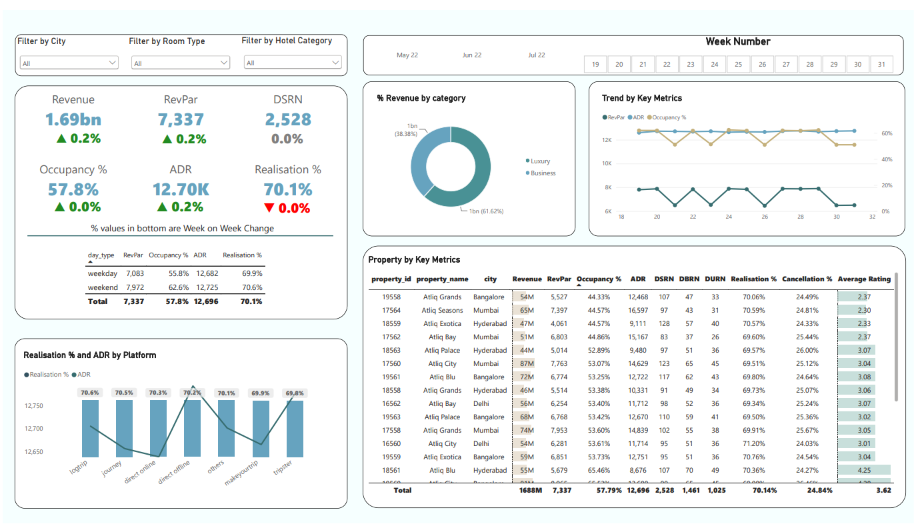

What the dashboard file says about the page in this screenshot:
{"tool":"powerbi","page":{"name":"Page 1","canvas":[1920,1080],"ordinal":1},"visuals":[{"type":"shape","box":[758.6,52.9,1138.6,84.3],"z":0},{"type":"shape","box":[758,496,1144,552],"z":1000},{"type":"shape","box":[24.9,691.4,700.7,358.1],"z":2000},{"type":"shape","box":[25.7,51.4,700,87.1],"z":3000},{"type":"shape","box":[1234,150,666,326],"z":4000},{"type":"shape","box":[758,150,448,326],"z":5000},{"type":"tableEx","title":"Property by Key Metrics","fields":{"Values":["dim_hotels.property_id","dim_hotels.property_name","dim_hotels.city","key_measures.Revenue","key_measures.RevPar","key_measures.Occupancy %","key_measures.ADR","key_measures.DSRN","key_measures.DBRN","key_measures.DURN","key_measures.Realisation %","key_measures.Cancellation %"]},"box":[754,500,1148,540],"z":6000},{"type":"slicer","title":"Filter by City","fields":{"Values":["dim_hotels.city"]},"box":[31.4,54.3,217.1,81.4],"z":7000},{"type":"slicer","title":"Filter by Room Type","fields":{"Values":["dim_rooms.room_class"]},"box":[265.7,54.3,218.6,81.4],"z":8000},{"type":"slicer","title":"Week Number","fields":{"Values":["dim_date.wn"]},"box":[1202.9,52.9,691.4,81.4],"z":9000},{"type":"slicer","fields":{"Values":["dim_date.mmm yy"]},"box":[764.3,57.1,447.1,74.3],"z":10000},{"type":"donutChart","title":"% Revenue by category","fields":{"Category":["dim_hotels.category"],"Y":["key_measures.Revenue"]},"box":[772,160,418,304],"z":11000},{"type":"lineChart","title":"Trend by Key Metrics","fields":{"Category":["dim_date.wn"],"Y":["key_measures.RevPar","key_measures.ADR"],"Y2":["key_measures.Occupancy %"]},"box":[1246,160,644,304],"z":12000},{"type":"shape","box":[24.9,158.8,700.7,492],"z":13000},{"type":"cardVisual","fields":{"Data":["key_measures.wow_revenue_change"]},"box":[78,234.6,164.7,66.6],"z":13000,"group":"g1"},{"type":"cardVisual","fields":{"Data":["key_measures.wow_RevPar_change"]},"box":[303.7,234.5,157.1,67.1],"z":14000,"group":"g1"},{"type":"tableEx","fields":{"Values":["dim_date.day_type","key_measures.RevPar","key_measures.Occupancy %","key_measures.ADR","key_measures.Realisation %"]},"box":[158,488,470,162],"z":14000},{"type":"cardVisual","fields":{"Data":["key_measures.wow_occupancy_change"]},"box":[72.9,384.7,170,52.5],"z":15000,"group":"g2"},{"type":"lineStackedColumnComboChart","title":"Realisation % and ADR by Platform","fields":{"Category":["fact_bookings.booking_platform"],"Y":["key_measures.Realisation %"],"Y2":["key_measures.ADR"]},"box":[28,700.7,694.5,339.4],"z":15000},{"type":"cardVisual","fields":{"Data":["key_measures.Revenue","key_measures.RevPar","key_measures.DSRN","key_measures.Occupancy %","key_measures.ADR","key_measures.Realisation %"]},"box":[36,138,680,294],"z":16000},{"type":"cardVisual","fields":{"Data":["key_measures.wow_DSRN_change"]},"box":[513.7,238,171.4,58.6],"z":16000,"group":"g1"},{"type":"slicer","title":"Filter by Hotel Category","fields":{"Values":["dim_hotels.category"]},"box":[502.9,52.9,215.7,81.4],"z":17000},{"type":"cardVisual","fields":{"Data":["key_measures.wow_ADR_change"]},"box":[295.1,385.3,157,52.3],"z":17000,"group":"g2"},{"type":"group","id":"g1","title":"Group 1","box":[78,234.5,607.2,67.1],"z":18000},{"type":"cardVisual","fields":{"Data":["key_measures.wow_Realisation_change"]},"box":[513.5,388.1,170.8,52.3],"z":18000,"group":"g2"},{"type":"group","id":"g2","title":"Group 2","box":[72.9,384.7,611.4,55.8],"z":19000},{"type":"shape","box":[52,466,644,18],"z":20000},{"type":"textbox","box":[186,446,416,54],"z":21000}]}

Visuals, with their boxes in screenshot pixels (x1, y1, x2, y2), scaled from the page's 1920x1080 canvas onto the 916x526 screenshot:
shape: BBox(362, 26, 905, 67)
shape: BBox(362, 242, 907, 510)
shape: BBox(12, 337, 346, 511)
shape: BBox(12, 25, 346, 67)
shape: BBox(589, 73, 906, 232)
shape: BBox(362, 73, 575, 232)
"Property by Key Metrics" tableEx: BBox(360, 244, 907, 507)
"Filter by City" slicer: BBox(15, 26, 119, 66)
"Filter by Room Type" slicer: BBox(127, 26, 231, 66)
"Week Number" slicer: BBox(574, 26, 904, 65)
slicer - dim_date.mmm yy: BBox(365, 28, 578, 64)
"% Revenue by category" donutChart: BBox(368, 78, 568, 226)
"Trend by Key Metrics" lineChart: BBox(594, 78, 902, 226)
shape: BBox(12, 77, 346, 317)
cardVisual - key_measures.wow_revenue_change: BBox(37, 114, 116, 147)
cardVisual - key_measures.wow_RevPar_change: BBox(145, 114, 220, 147)
tableEx - dim_date.day_type x key_measures.RevPar: BBox(75, 238, 300, 317)
cardVisual - key_measures.wow_occupancy_change: BBox(35, 187, 116, 213)
"Realisation % and ADR by Platform" lineStackedColumnComboChart: BBox(13, 341, 345, 507)
cardVisual - key_measures.Revenue x key_measures.RevPar: BBox(17, 67, 342, 210)
cardVisual - key_measures.wow_DSRN_change: BBox(245, 116, 327, 144)
"Filter by Hotel Category" slicer: BBox(240, 26, 343, 65)
cardVisual - key_measures.wow_ADR_change: BBox(141, 188, 216, 213)
"Group 1" group: BBox(37, 114, 327, 147)
cardVisual - key_measures.wow_Realisation_change: BBox(245, 189, 326, 214)
"Group 2" group: BBox(35, 187, 326, 215)
shape: BBox(25, 227, 332, 236)
textbox: BBox(89, 217, 287, 244)
